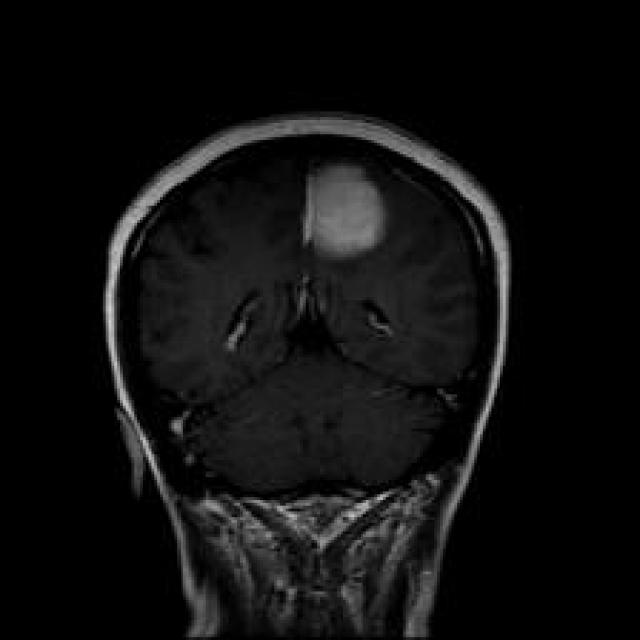meningioma_tumor: (294, 147, 402, 278)
